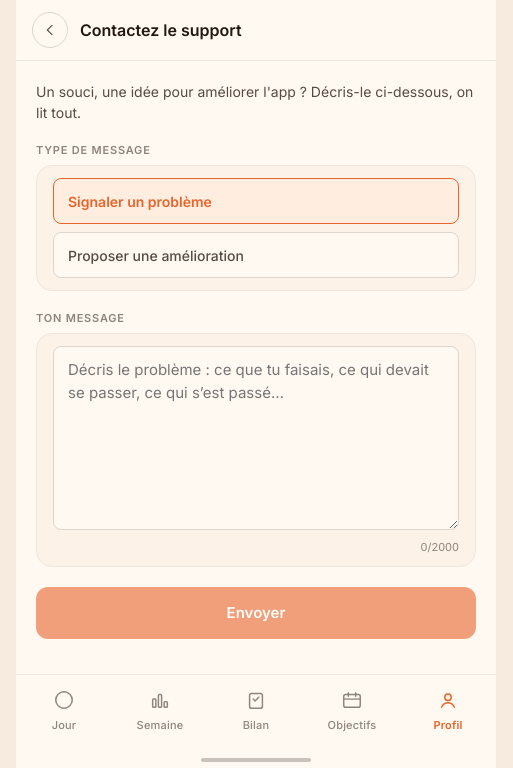
Test: SupportPage — contact du support › affiche un message d'erreur quand l'envoi échoue et ne bascule pas en confirmation
Type "Un message" into the text box at (256, 438), box [53,346,459,530]
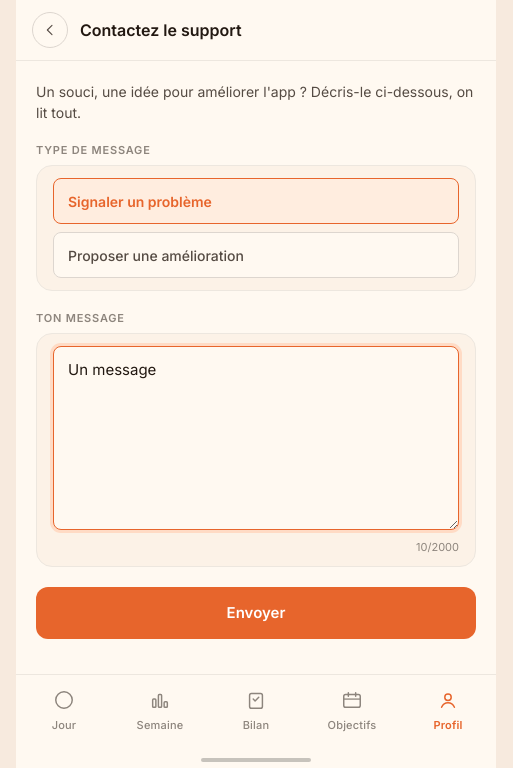
Click the button "Envoyer" at (256, 612), box [36,586,476,638]
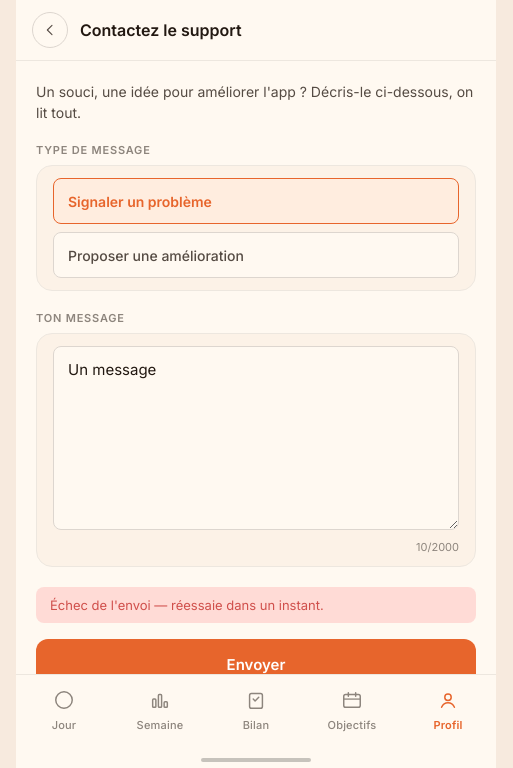
Expected: the text "Échec de l'envoi — réessaie dans un instant." is shown, [36,586,476,622]
